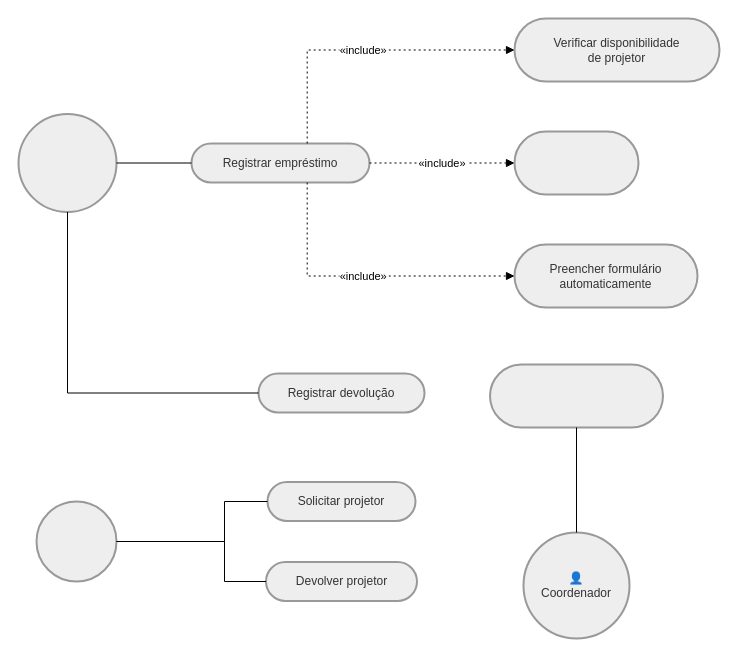
Some shapes in this 737 by 656 pixel diagram are drawn without their labels. The box of each missing label's shape, as (x1, y1, x2, y2) in pixels:
Buscar dados do professor: (513, 130, 639, 195)
Visualizar relatórios estatísticos de uso: (488, 363, 664, 428)
👤 Funcionário: (17, 112, 117, 212)
👤 Professor: (35, 500, 117, 582)
